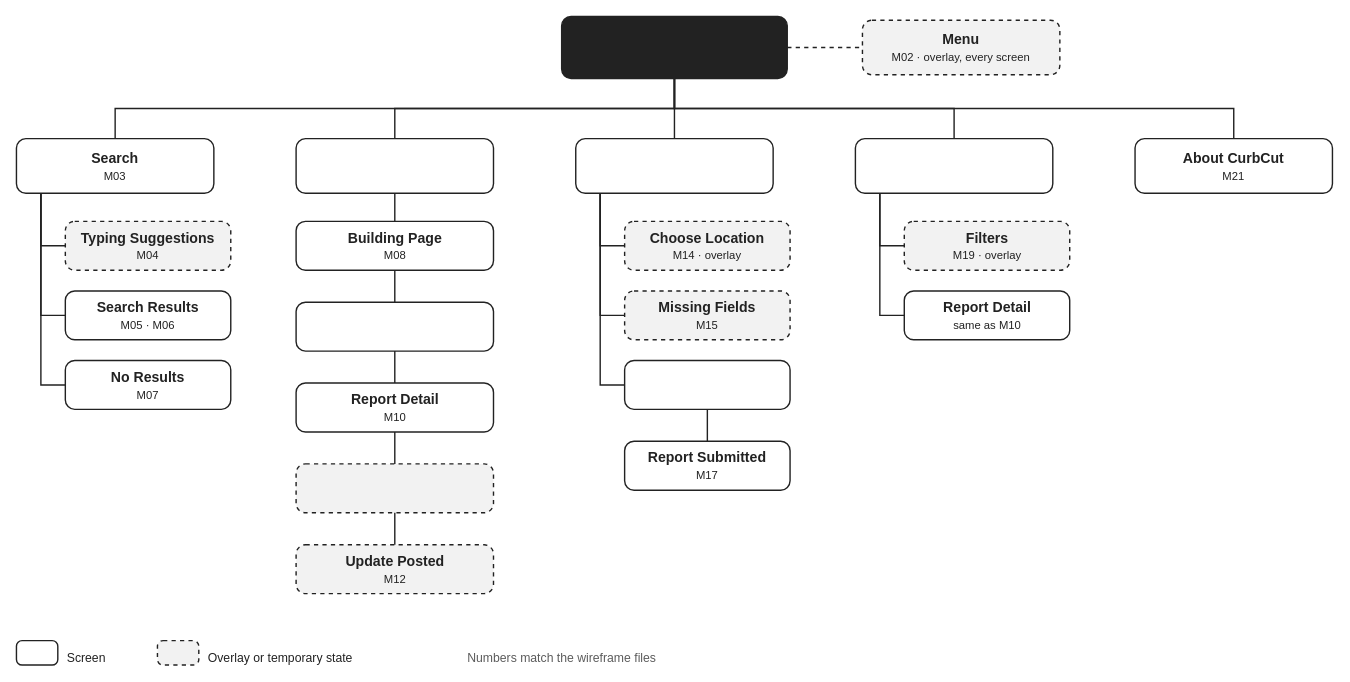
The diagram is 1350 pixels wide and 682 high, and some of its shapes have lost their labels. The shapes that lost their labels are listed below. From the top down, each one's centre as x and y in pixels, then its label:
At (674,47): "Home M01".
At (394,165): "Supported Buildings M20".
At (674,165): "Report a Barrier M13".
At (953,165): "Browse Reports M18".
At (394,326): "Entrance Detail M09".
At (707,384): "Filled In M16".
At (394,488): "Add Update M11 · overlay".
